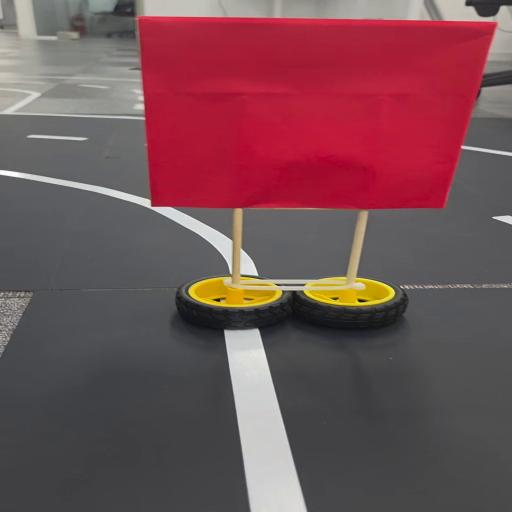Sign_A: (141, 7, 511, 331)
